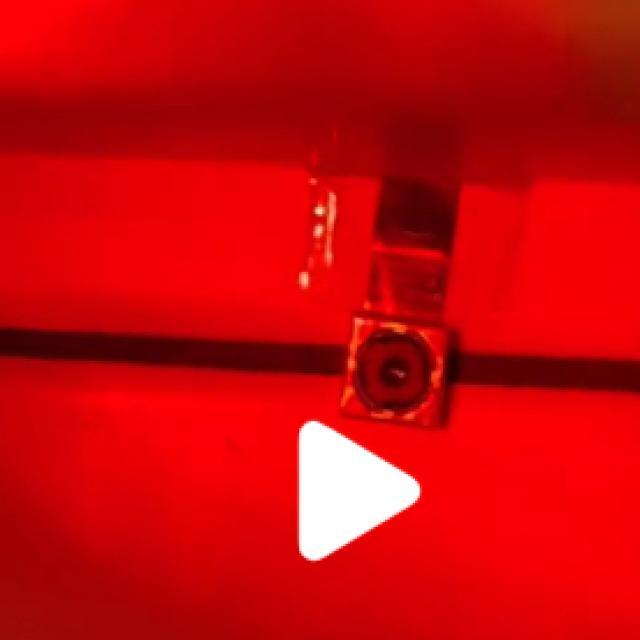hidden camera: (378, 357, 407, 389)
